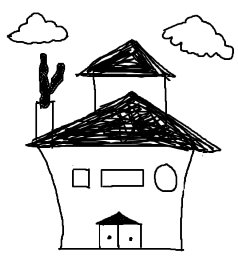clouds: (159, 2, 238, 61), (2, 6, 79, 51)
door: (95, 209, 151, 257)
open_window: (95, 166, 147, 189), (153, 158, 179, 199), (67, 162, 96, 191)
shaded_roof: (21, 90, 228, 154), (85, 30, 174, 82)
smoking_chimney: (23, 46, 75, 141)
wall: (35, 140, 196, 255)
